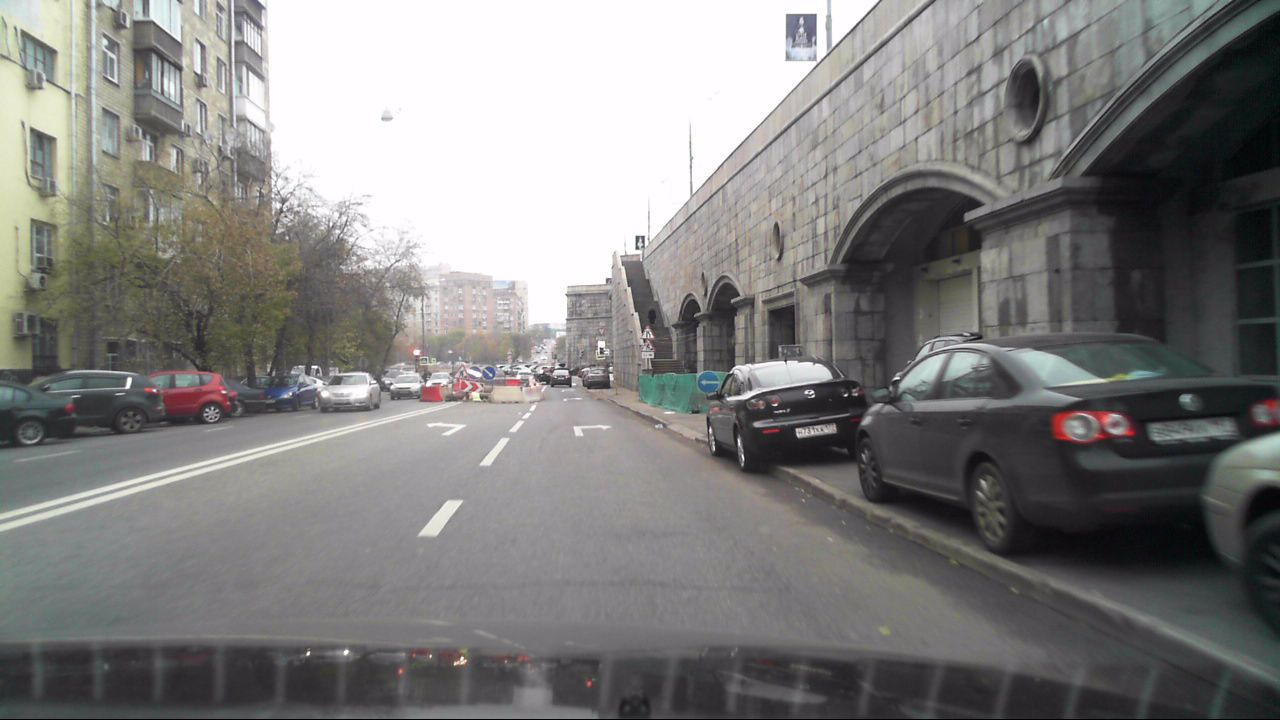Turn Left: (697, 371, 720, 393)
